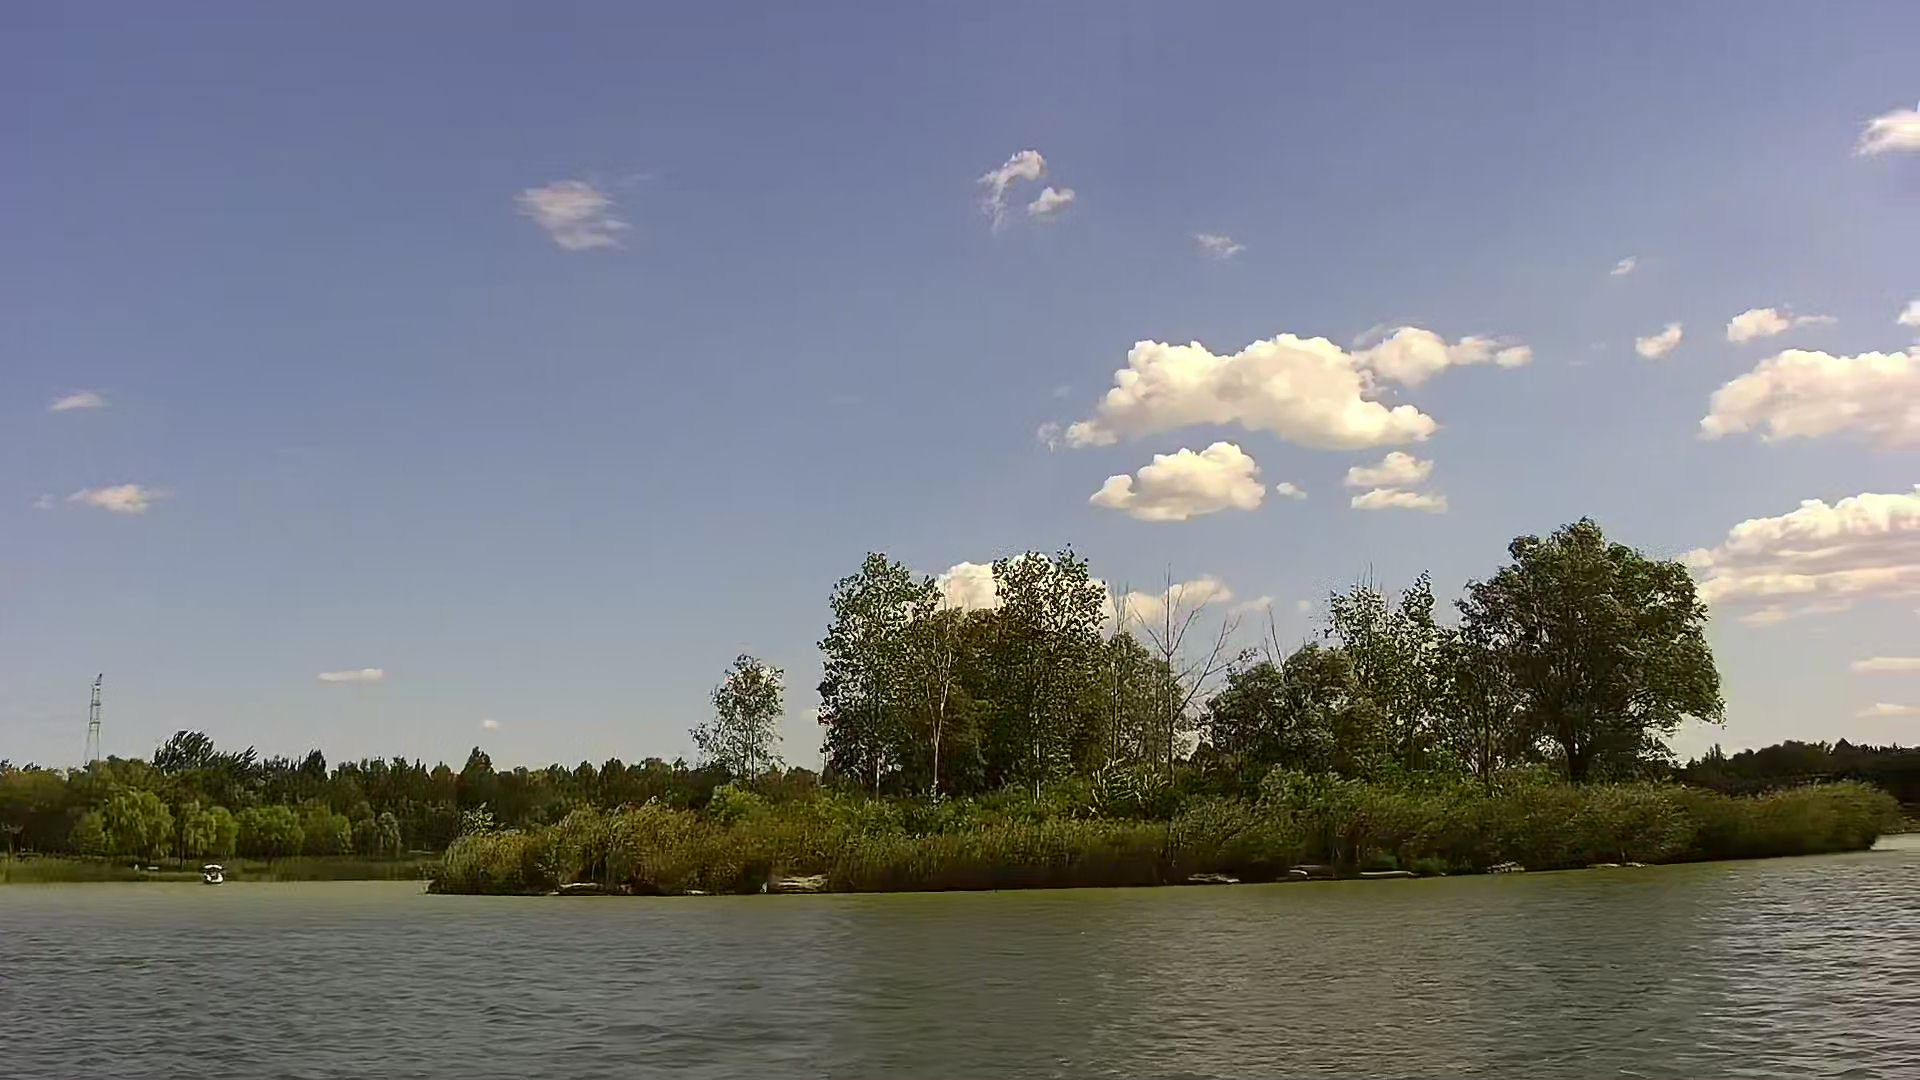rock: (762, 865, 824, 887)
